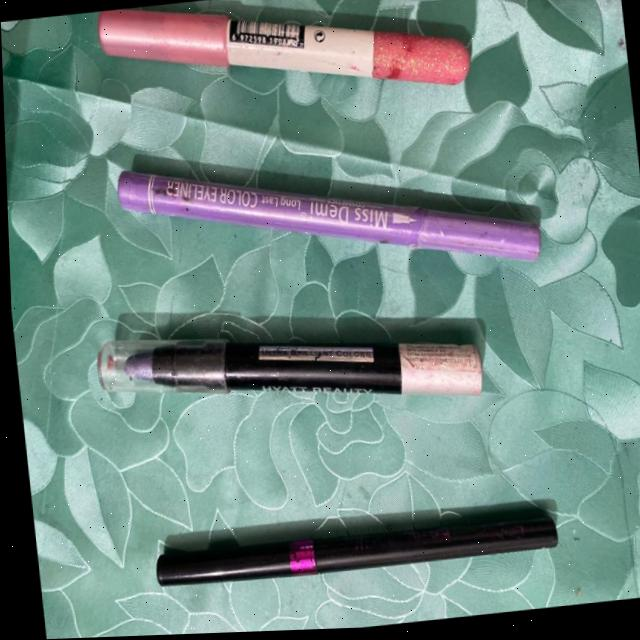eye liner: (134, 481, 600, 614)
kajal: (62, 281, 508, 454)
lip liner: (90, 103, 558, 305), (75, 0, 497, 142)
